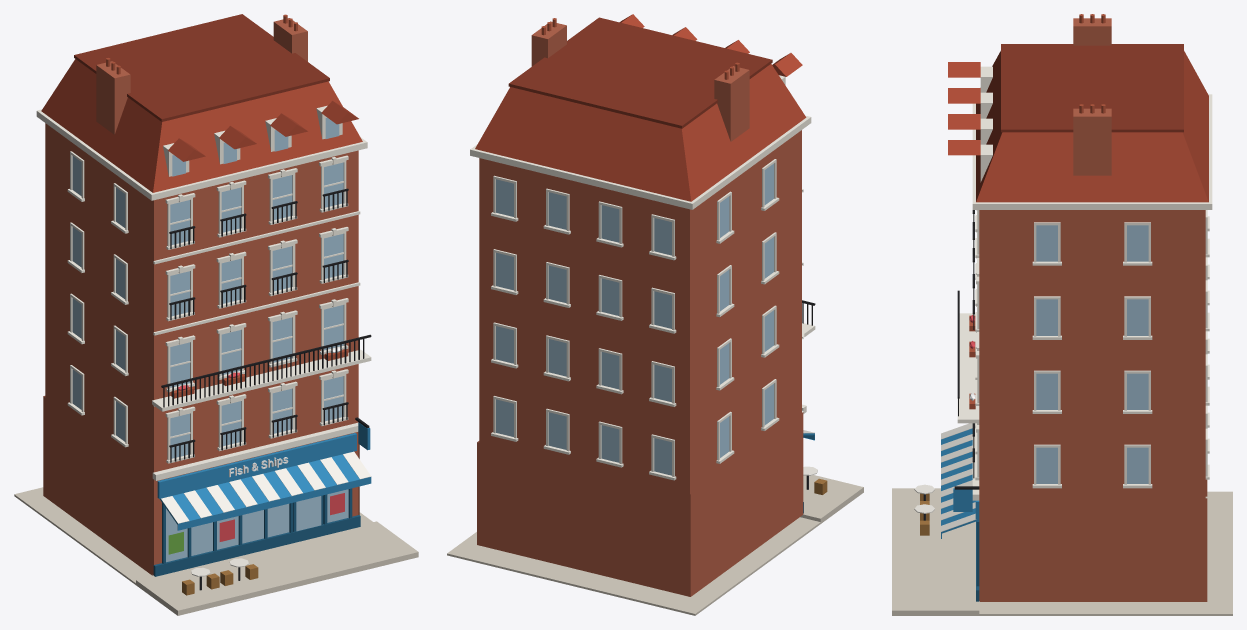
The model's file is Dukkan_fish_ships_Hafif.fbx.
3 views of the same model, side by side, from view 1: azimuth 30°, elevation 25°; view 2: azimuth 150°, elevation 25°; view 3: azimuth 270°, elevation 25° (orthographic). The views are drawn at different scales.
Visible parts, largest first — view 1: Dukkan_fish_ships_Hafif; view 2: Dukkan_fish_ships_Hafif; view 3: Dukkan_fish_ships_Hafif.
Boxes of the visible parts, <box> form: Dukkan_fish_ships_Hafif: <box>14,14,418,615</box>; Dukkan_fish_ships_Hafif: <box>447,14,863,615</box>; Dukkan_fish_ships_Hafif: <box>892,14,1232,615</box>.
Bounding box in the file's own units: 10.62 × 20.02 × 12.5.
